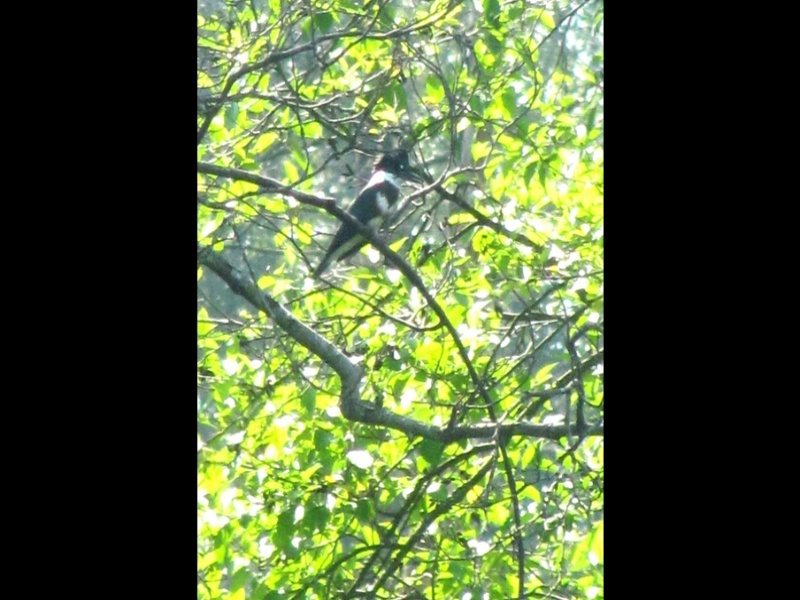kingfisher: (312, 151, 426, 280)
